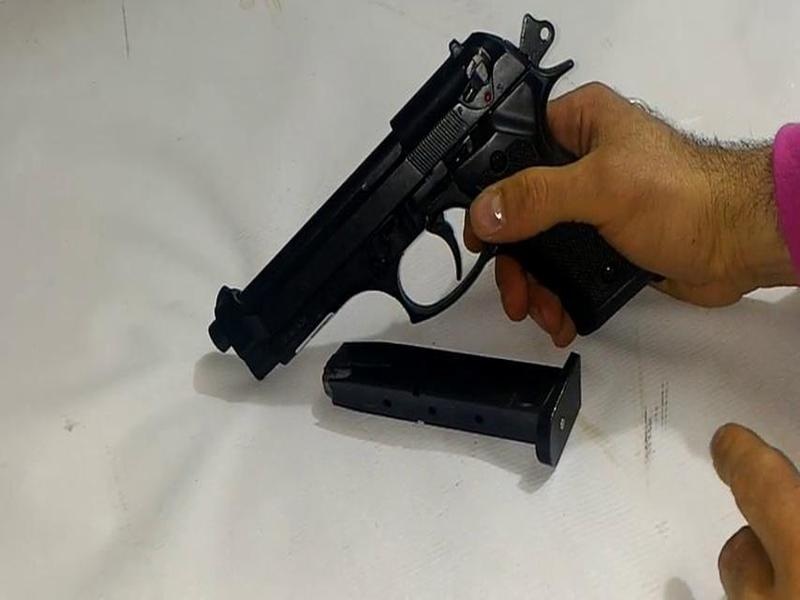Pistola: (198, 12, 680, 366)
